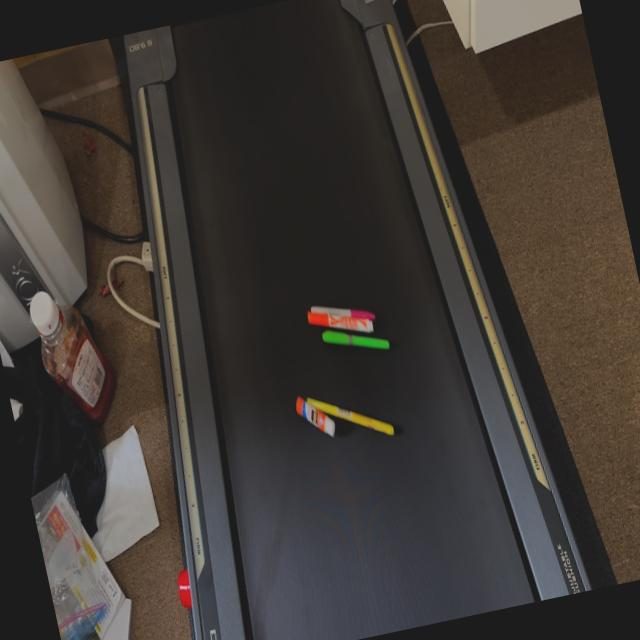Trash: (274, 288, 412, 464)
